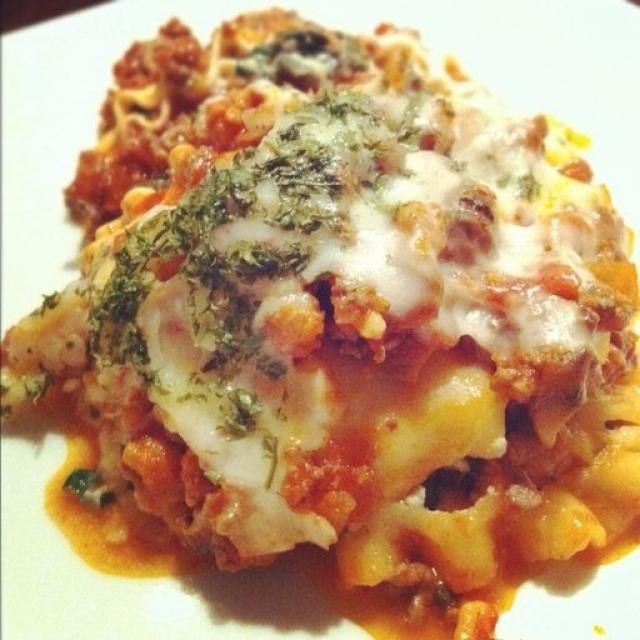Lasagna: (66, 100, 640, 616)
